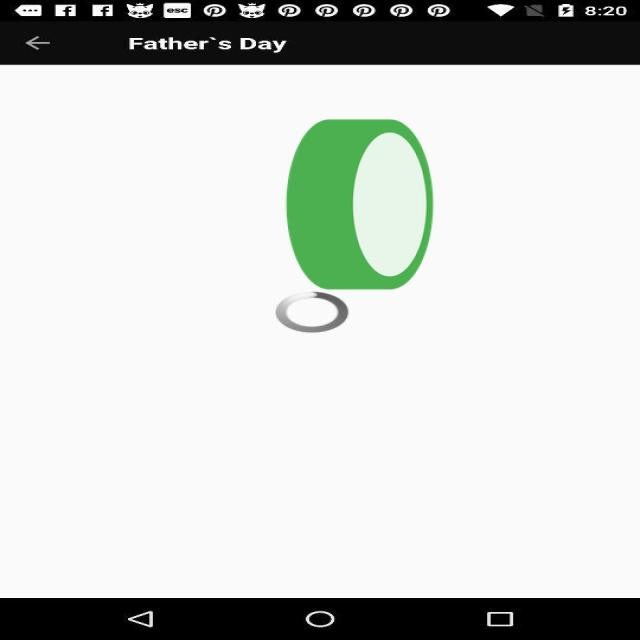social proof: (280, 54, 440, 368)
